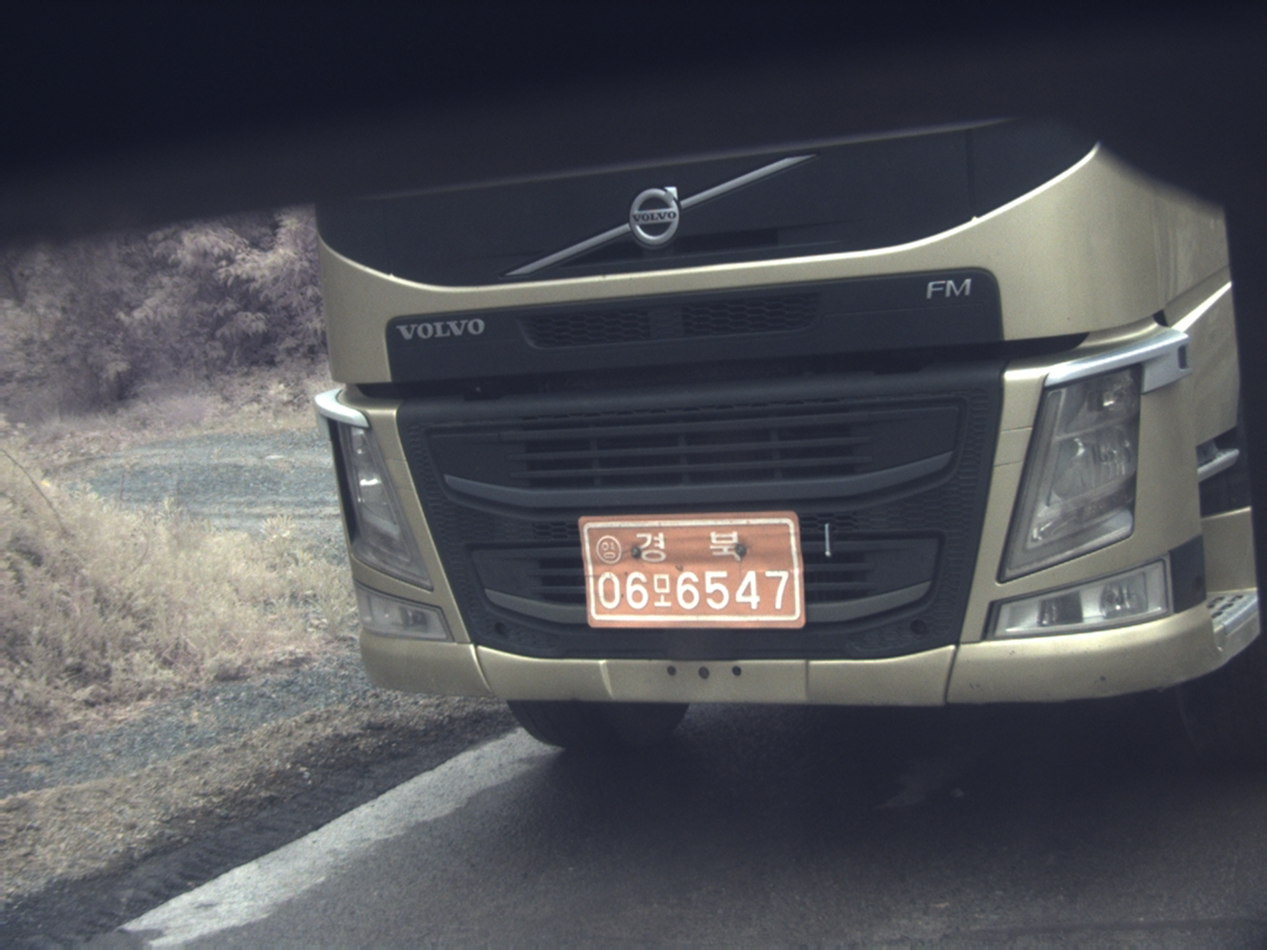license_plate: (579, 512, 804, 627)
truck: (317, 121, 1265, 759)
